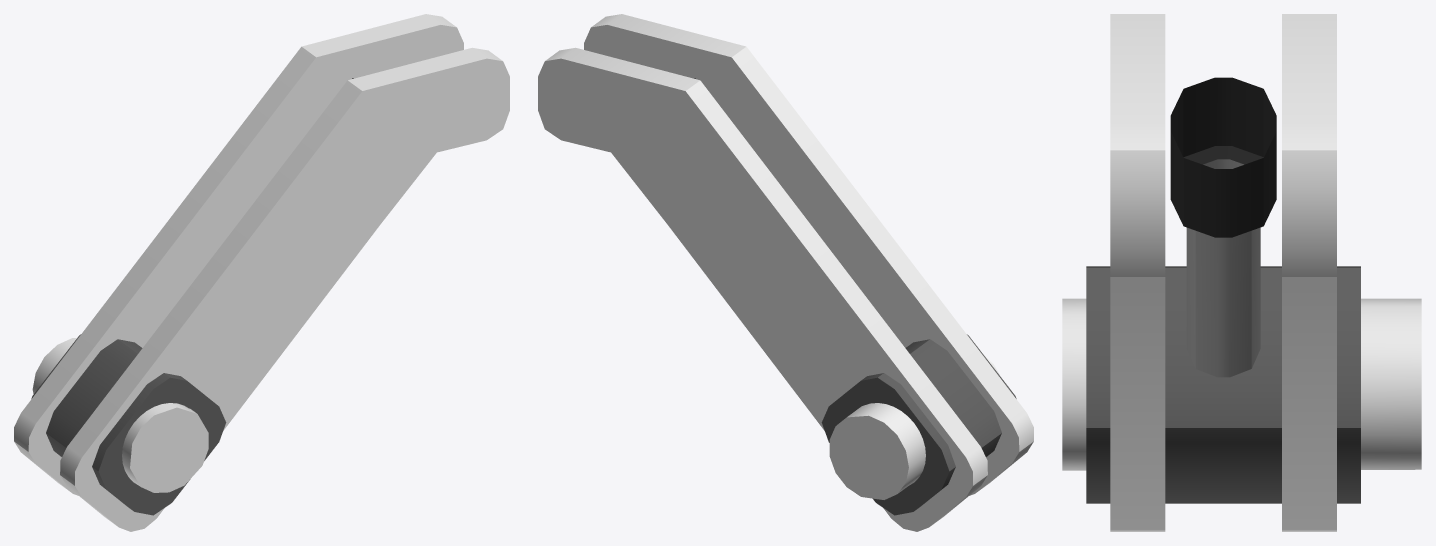
The model's file is pata_tra_izq.obj.
The picture shows the model from 3 angles, left to right: view 1: azimuth 30°, elevation 25°; view 2: azimuth 150°, elevation 25°; view 3: azimuth 270°, elevation 25°; orthographic projection. The views are drawn at different scales.
Parts seen in each view (by area): view 1: pata_tra_izq; view 2: pata_tra_izq; view 3: pata_tra_izq.
Part boxes in pixels (box(x1,y1,x2,y2)): pata_tra_izq: box(14, 14, 509, 531); pata_tra_izq: box(538, 14, 1033, 531); pata_tra_izq: box(1062, 14, 1421, 531).
Bounding box in the file's own units: 3.27 × 2.77 × 1.26.
